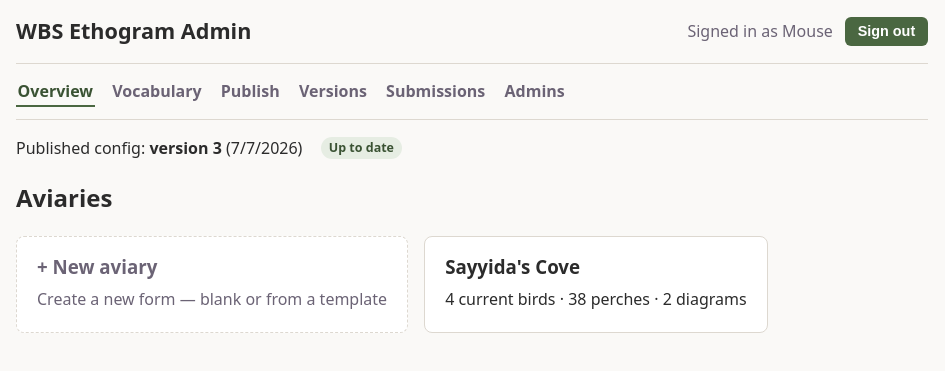
Scenario: App › shows the dashboard shell with nav when signed in, and signs out
This screenshot has width=945, height=371.
Expected: the text "Signed in as Mouse" is shown, [687, 19, 833, 43]
Expected: the link "Vocabulary" is shown, [111, 76, 203, 107]
Click the button "Sign out". click: click(886, 31)
box: [845, 17, 928, 46]
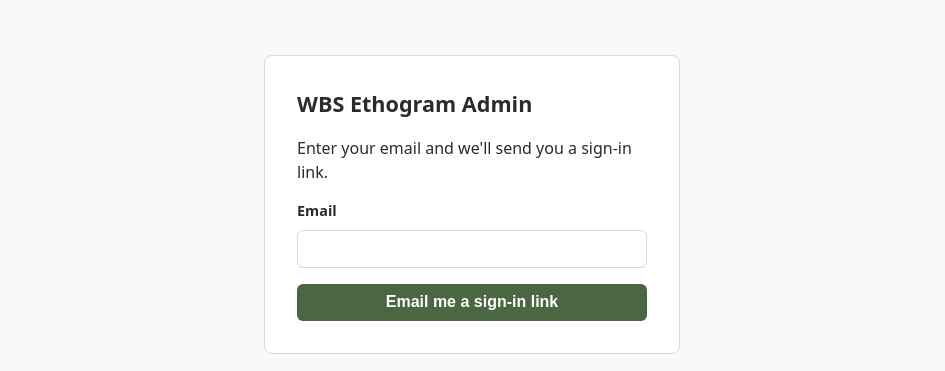
Now the field labelled "Email" is shown, box [297, 230, 647, 268]
